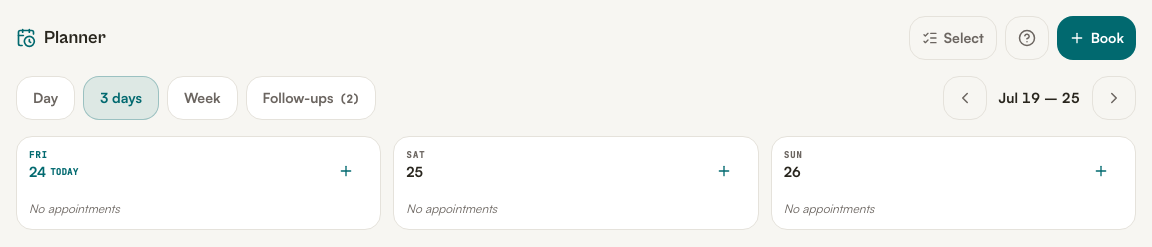
Test: AgentPlannerPanel — week navigation on the DESKTOP board › F1: the follow-ups badge is suppressed on a navigated week
Expected: the tab with test id "planner-span-followups" shows "(2)", x1=246 y1=76 x2=376 y2=120
Click the button with test id "planner-week-next" at (1114, 98), box x1=1092 y1=76 x2=1136 y2=120
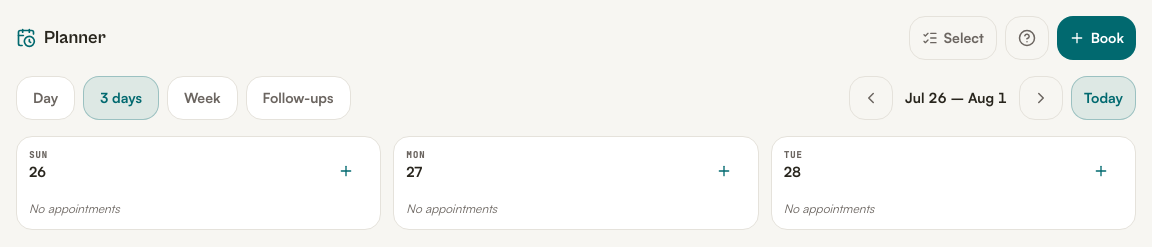
Expected: the tab with test id "planner-span-followups" no longer shows "(", x1=246 y1=76 x2=350 y2=120
